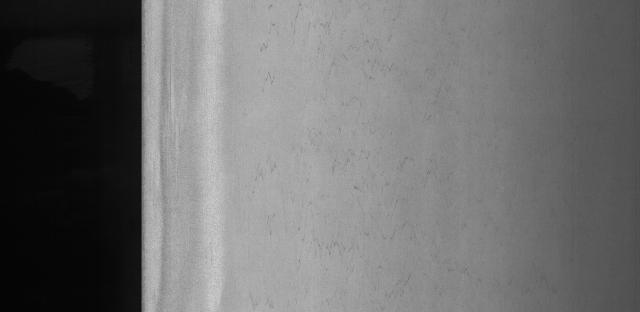silk_spot: (248, 0, 437, 250)
